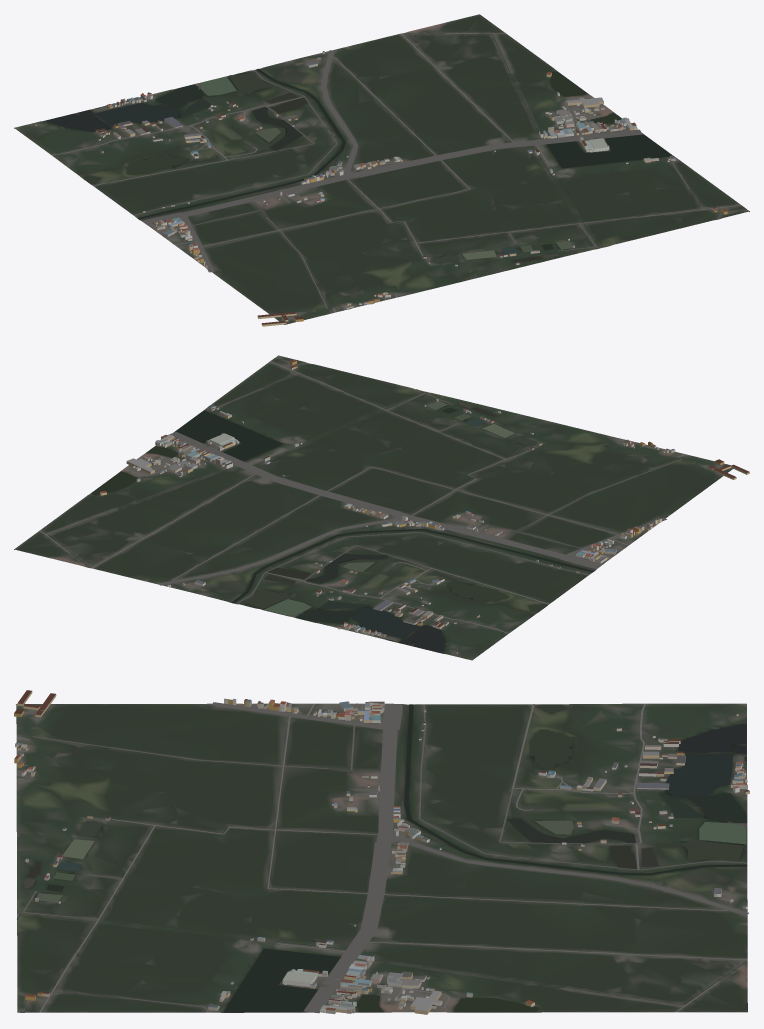
The picture shows the model from 3 angles, top to bottom: view 1: azimuth 30°, elevation 25°; view 2: azimuth 150°, elevation 25°; view 3: azimuth 270°, elevation 25°; orthographic projection. The views are drawn at different scales.
Visible parts, largest first — view 1: ground, water, roads, buildings; view 2: ground, water, roads, buildings; view 3: ground, water, roads, buildings.
Part boxes in pixels (box(x1,y1,x2,y2)): ground: box(14, 14, 749, 324); water: box(44, 33, 745, 263); roads: box(51, 33, 741, 324); buildings: box(35, 51, 727, 326); ground: box(14, 355, 733, 660); water: box(48, 357, 593, 653); roads: box(40, 361, 685, 633); buildings: box(100, 360, 749, 653); ground: box(16, 703, 747, 1012); water: box(17, 704, 747, 1012); roads: box(16, 702, 748, 1013); buildings: box(14, 690, 749, 1014).
Size of the model in its own units: 1462 by 22.09 by 1412.
